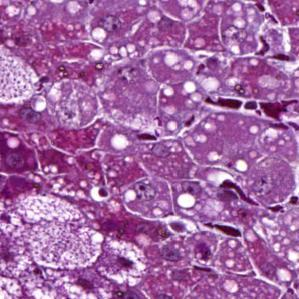ballooning: (11, 187, 103, 273), (91, 237, 151, 291)
